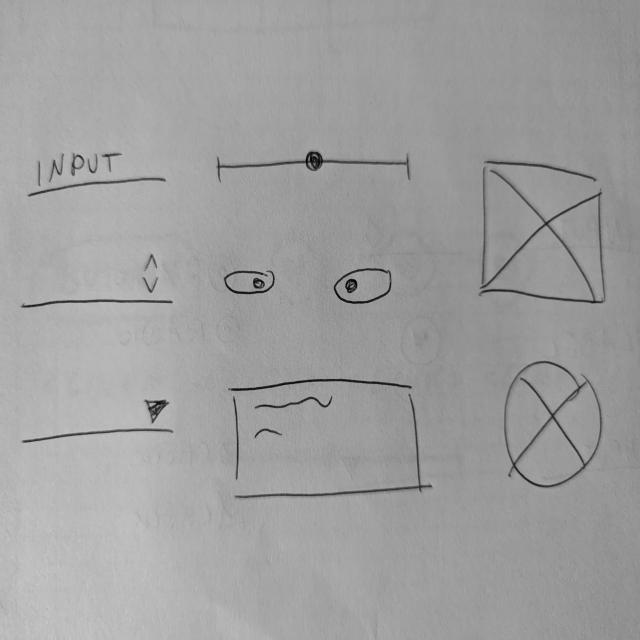image: (479, 160, 609, 309), (503, 360, 607, 491)
input: (26, 150, 170, 203)
number-input: (19, 250, 177, 315)
select: (20, 393, 179, 450)
slider: (215, 146, 416, 186)
textarea: (230, 376, 427, 505)
toggle: (333, 266, 397, 307), (224, 266, 279, 298)
